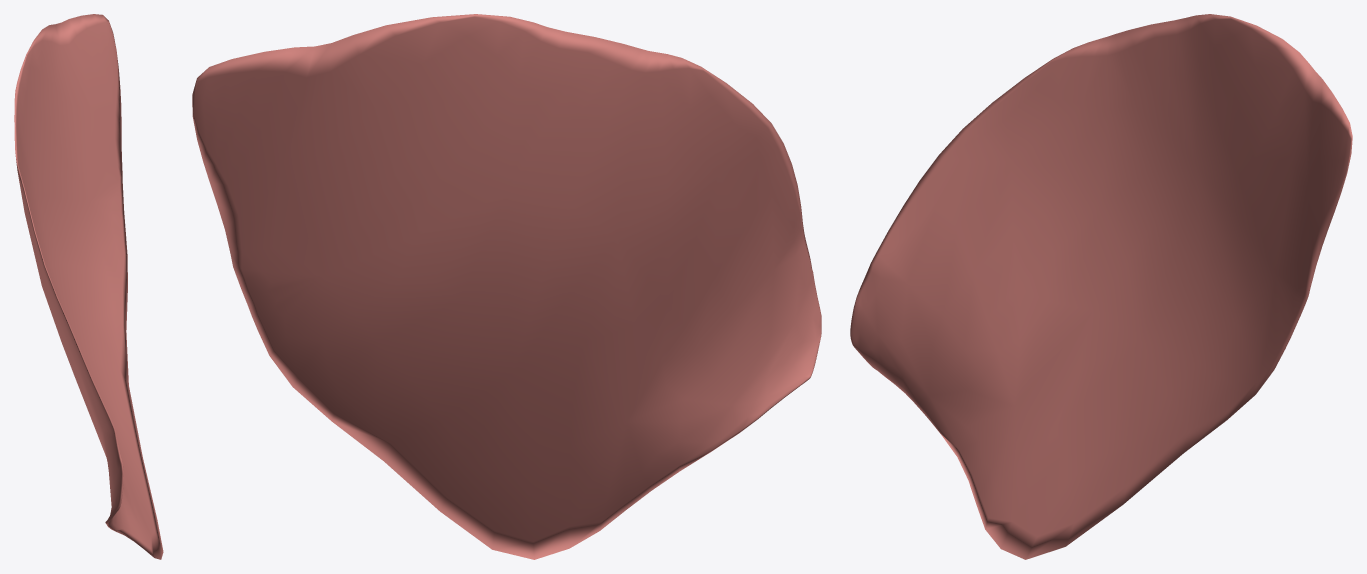
3 views of the same model, side by side, from view 1: azimuth 30°, elevation 25°; view 2: azimuth 150°, elevation 25°; view 3: azimuth 270°, elevation 25° (orthographic). The views are drawn at different scales.
Parts seen in each view (by area): view 1: ZA_c5d7020afa4866b1; view 2: ZA_c5d7020afa4866b1; view 3: ZA_c5d7020afa4866b1.
Part boxes in pixels (x1,y1,x2,y2): ZA_c5d7020afa4866b1: [14, 14, 163, 559]; ZA_c5d7020afa4866b1: [192, 14, 821, 559]; ZA_c5d7020afa4866b1: [850, 14, 1352, 559].
Bounding box in the file's own units: 0.0512 × 0.0972 × 0.0856.
